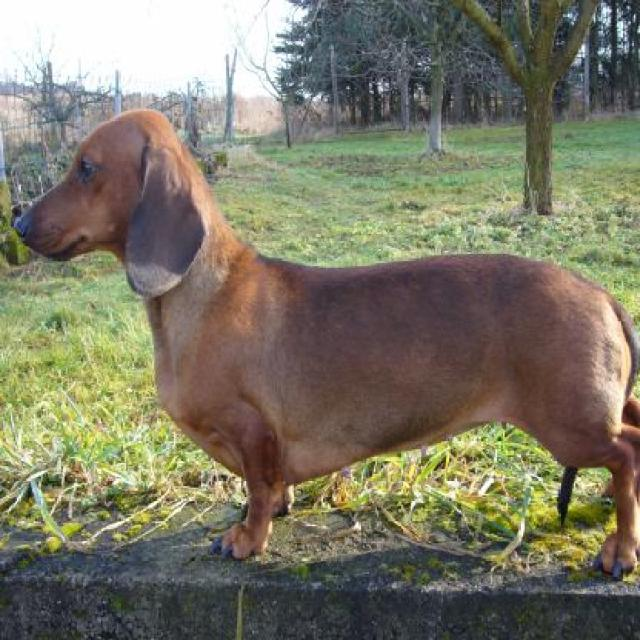Dog: (9, 99, 638, 586)
